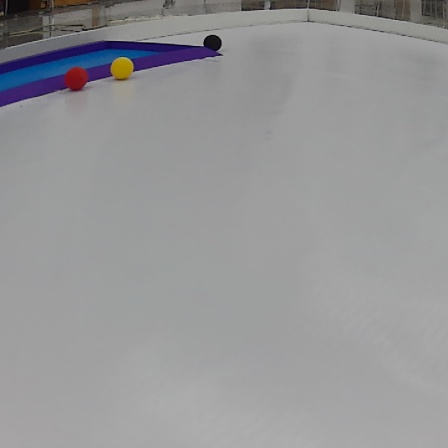black: (204, 35, 224, 50)
blue_aim: (2, 39, 222, 109)
red: (67, 68, 90, 87)
yellow: (112, 56, 135, 82)
